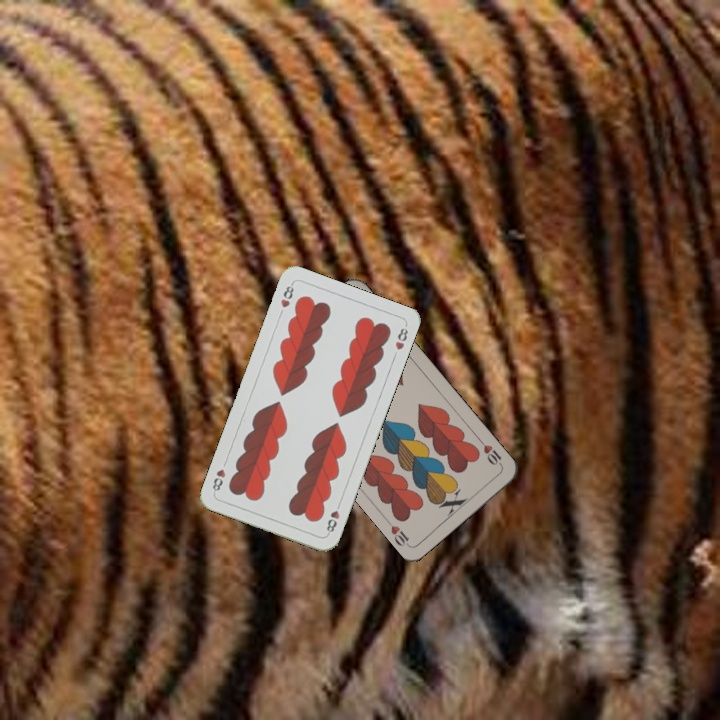H10: (475, 435, 505, 469)
H8: (322, 498, 343, 537), (276, 279, 296, 310)
